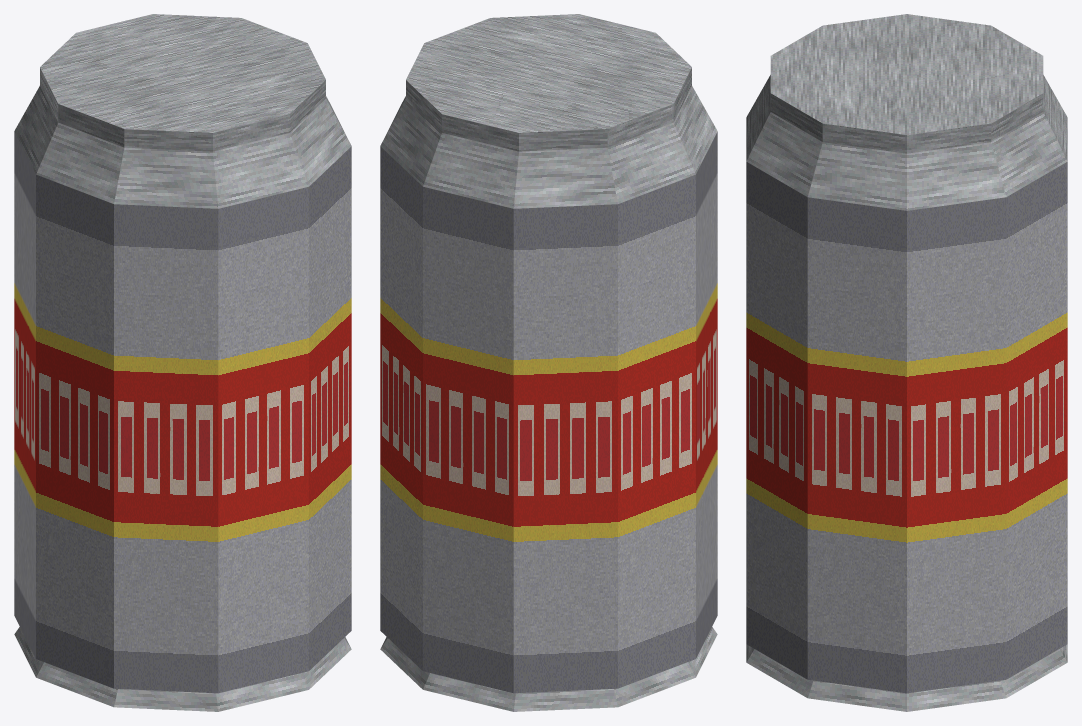
Rendered from beer_can.glb.
3 views of the same model, side by side, from view 1: azimuth 30°, elevation 25°; view 2: azimuth 150°, elevation 25°; view 3: azimuth 270°, elevation 25° (orthographic).
Visible parts, largest first — view 1: beer_can; view 2: beer_can; view 3: beer_can.
Part boxes in pixels (box(x1,y1,x2,y2)): beer_can: box(14, 14, 351, 711); beer_can: box(380, 14, 717, 711); beer_can: box(746, 14, 1067, 711).
Bounding box in the file's own units: 0.066 × 0.122 × 0.0628.
2 materials, 2 textured.
